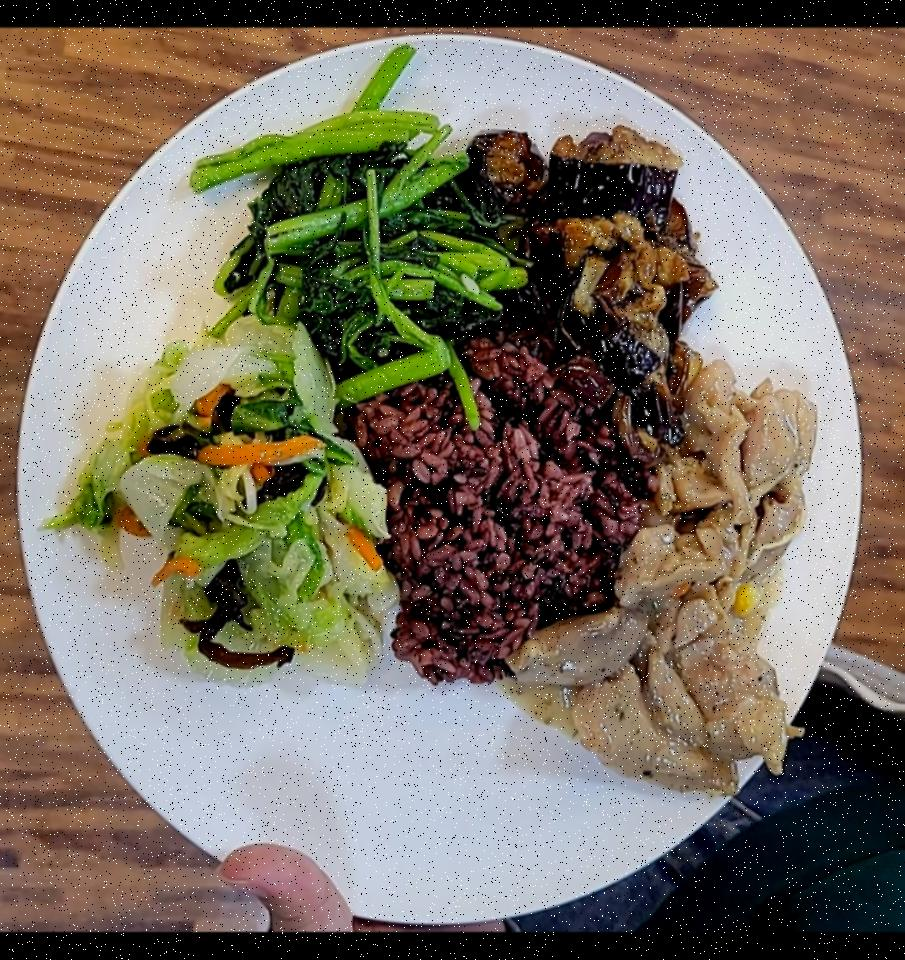big fried chicken leg: (20, 27, 878, 933)
braised fish: (359, 329, 638, 690)
braised fish fillet: (48, 316, 402, 685), (195, 47, 514, 392), (474, 124, 721, 426)
braised pork: (508, 374, 834, 793)
